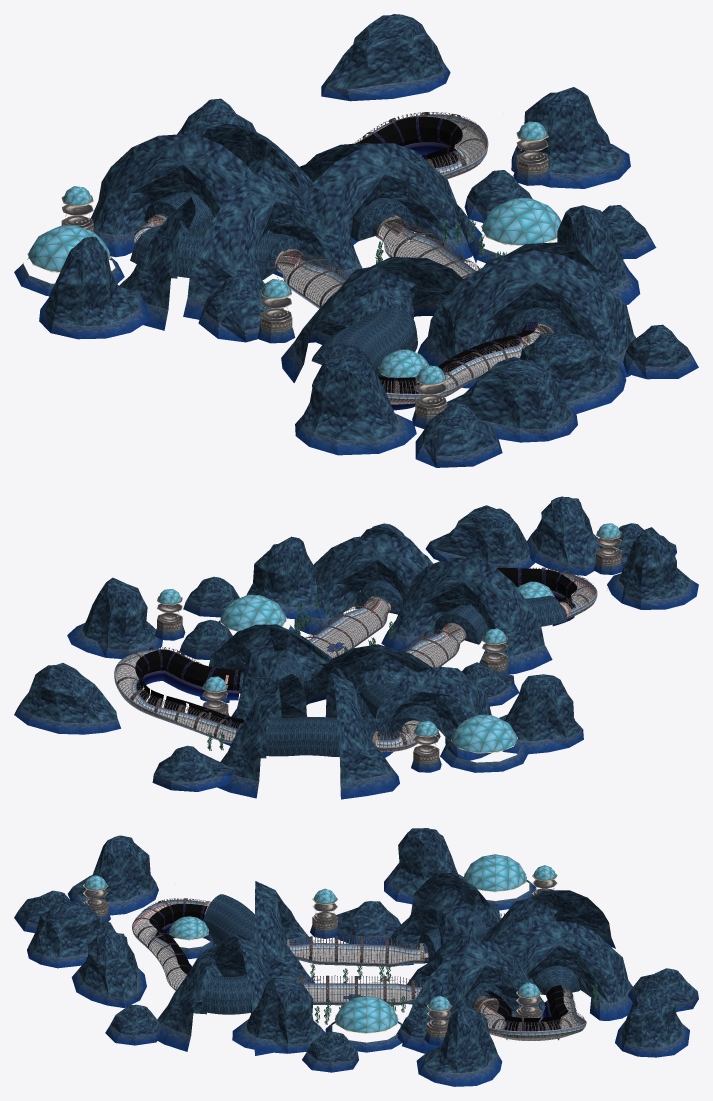
The model's file is deeppressure.obj.
3 renders of one model, top to bottom at view 1: azimuth 30°, elevation 25°; view 2: azimuth 150°, elevation 25°; view 3: azimuth 270°, elevation 25°, orthographic. The views are drawn at different scales.
Visible parts, largest first — view 1: scene; view 2: scene; view 3: scene.
Part boxes in pixels (box(x1,y1,x2,y2)): scene: box(14, 14, 698, 467); scene: box(14, 496, 698, 799); scene: box(14, 828, 698, 1086).
Bounding box in the file's own units: 15163 × 3006 × 19234.
Materials: 7 (7 with a texture image).
